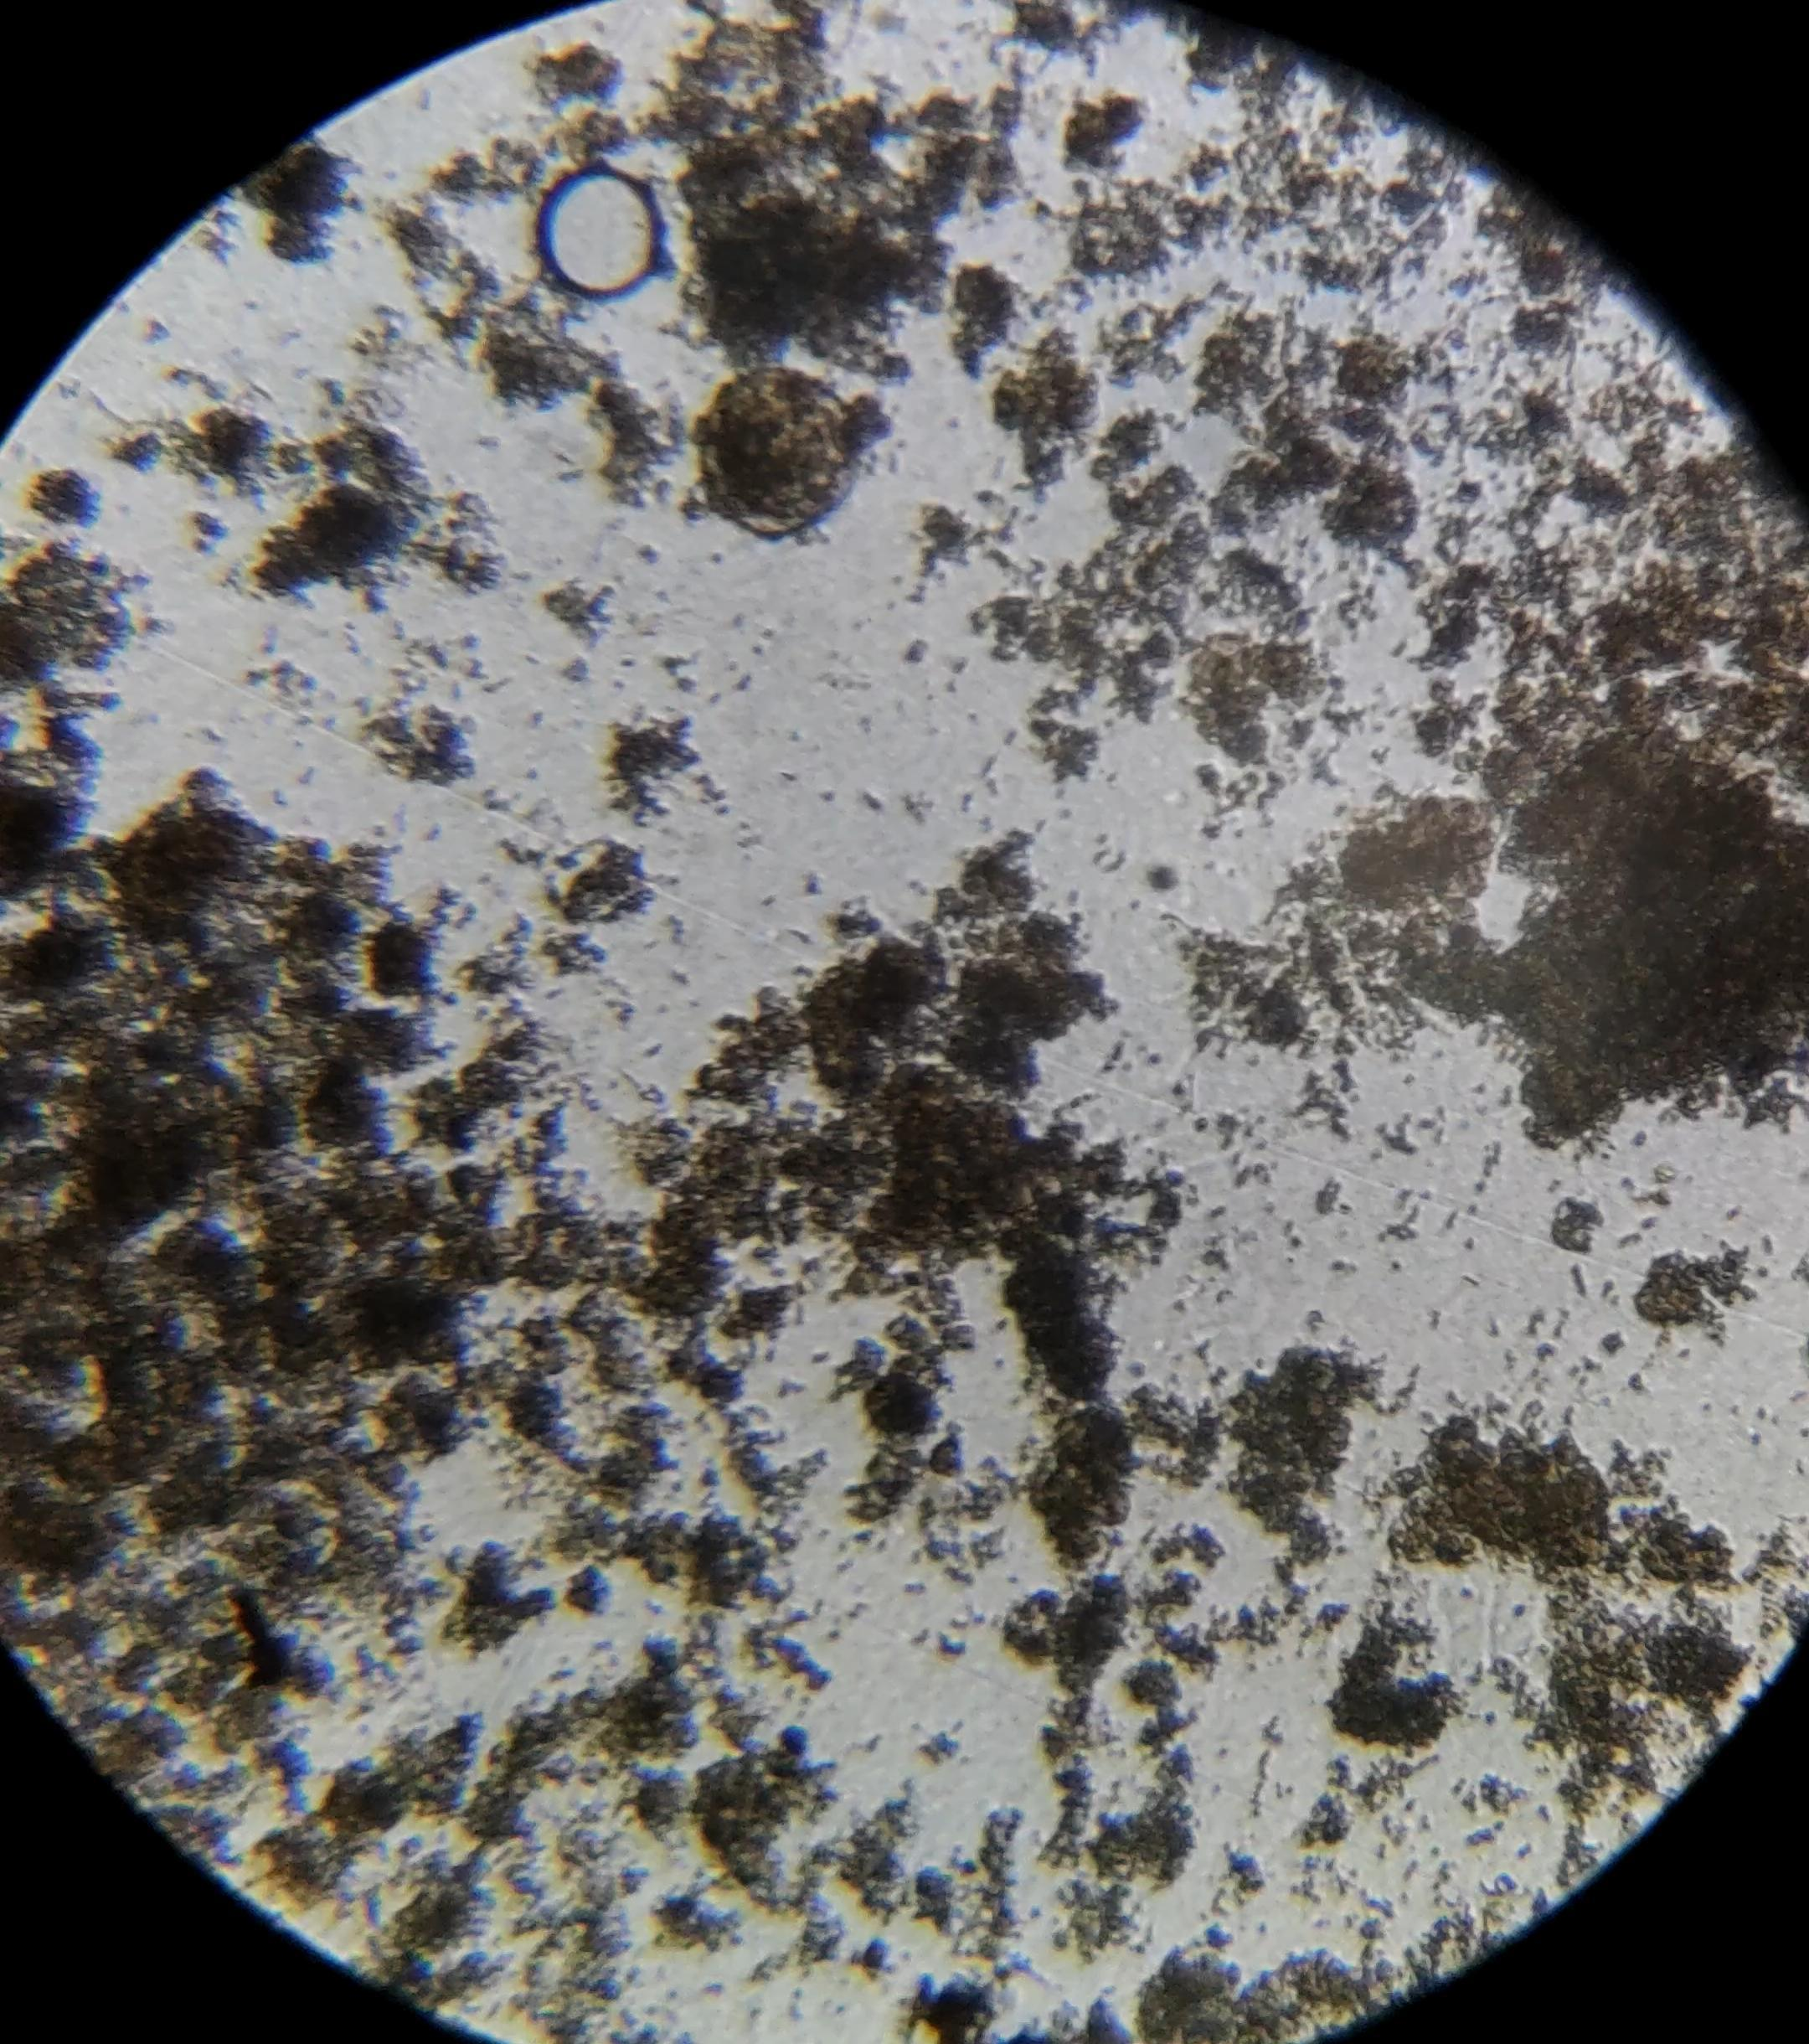Arcella: (702, 369, 861, 535)
